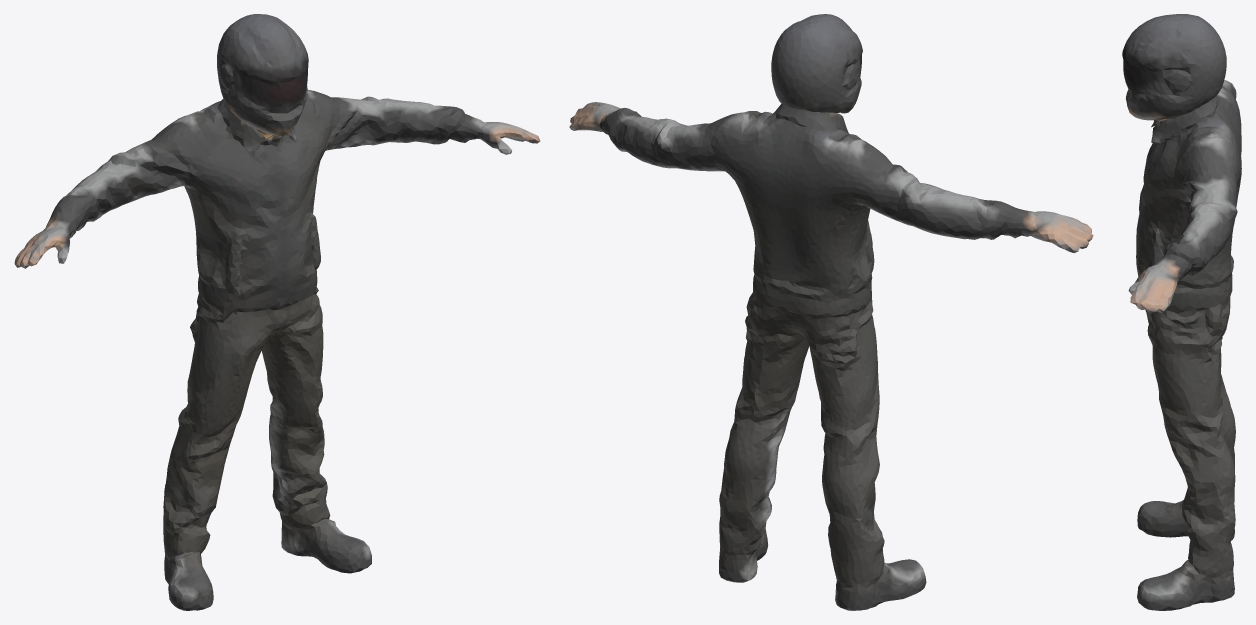
The picture shows the model from 3 angles, left to right: view 1: azimuth 30°, elevation 25°; view 2: azimuth 150°, elevation 25°; view 3: azimuth 270°, elevation 25°; orthographic projection.
Parts seen in each view (by area): view 1: geometry_0; view 2: geometry_0; view 3: geometry_0.
Part boxes in pixels (box(x1,y1,x2,y2)): geometry_0: box(14, 14, 540, 610); geometry_0: box(569, 14, 1093, 610); geometry_0: box(1122, 14, 1241, 610).
Size of the model in its own units: 0.9741 by 1 by 0.1973.
